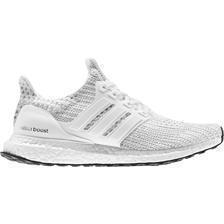Hand: (95, 3, 176, 218), (51, 76, 175, 203)
